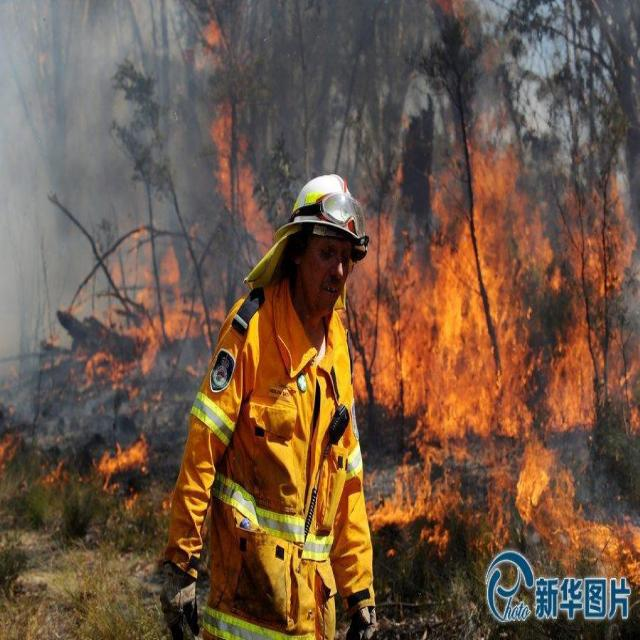fire: (347, 119, 636, 590), (73, 21, 275, 516)
other: (202, 161, 376, 617)
